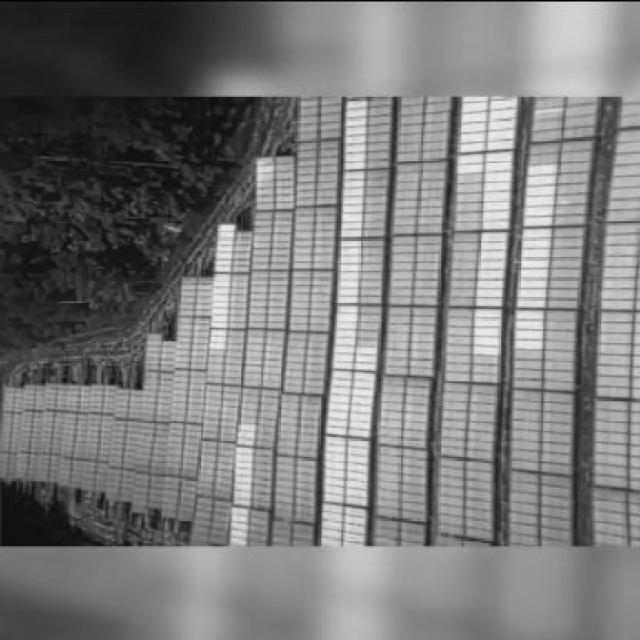diode: (489, 105, 516, 121), (528, 163, 558, 175), (462, 112, 487, 125), (460, 121, 485, 134), (459, 142, 483, 155), (479, 236, 507, 247), (514, 312, 544, 322), (456, 164, 481, 176), (492, 98, 516, 110), (516, 332, 544, 342), (520, 258, 548, 268), (523, 249, 548, 260), (524, 228, 551, 238), (458, 133, 482, 144), (458, 152, 482, 163), (526, 198, 552, 208), (515, 323, 543, 332), (523, 241, 551, 250), (459, 103, 487, 112), (483, 180, 511, 189), (518, 291, 545, 300), (521, 270, 548, 279), (528, 187, 555, 196), (476, 256, 506, 264), (476, 246, 506, 254), (520, 280, 546, 289), (473, 341, 499, 350), (488, 138, 514, 147), (480, 212, 509, 220), (483, 200, 512, 208), (475, 314, 500, 323), (476, 298, 501, 307), (476, 270, 501, 279), (475, 262, 503, 270), (482, 190, 510, 198), (486, 160, 514, 168), (335, 258, 357, 268), (323, 522, 345, 532), (348, 454, 370, 464), (524, 210, 551, 218), (475, 324, 499, 333), (342, 120, 366, 129), (325, 454, 346, 464), (476, 290, 502, 298), (324, 497, 347, 506), (343, 100, 365, 109), (335, 267, 357, 276), (323, 487, 345, 496), (483, 171, 511, 178), (485, 151, 513, 158), (474, 333, 498, 341), (477, 280, 501, 288), (335, 292, 354, 302), (528, 178, 555, 185), (357, 353, 378, 362), (354, 381, 375, 390), (514, 342, 544, 348), (536, 106, 566, 112), (350, 472, 368, 482), (352, 496, 370, 506), (492, 122, 514, 130), (343, 137, 365, 145), (322, 512, 344, 520), (355, 389, 377, 397), (335, 306, 357, 314), (346, 180, 365, 189), (212, 293, 231, 302), (345, 111, 364, 120), (326, 421, 345, 430), (329, 412, 348, 421), (356, 371, 375, 380), (352, 439, 371, 448), (515, 302, 543, 308), (462, 95, 486, 102), (479, 230, 507, 236), (479, 222, 507, 228), (348, 447, 369, 455), (524, 220, 551, 226), (488, 132, 515, 138), (337, 349, 355, 358), (335, 373, 353, 382), (325, 464, 343, 473), (358, 362, 376, 371), (351, 488, 367, 498), (474, 350, 500, 356), (342, 199, 364, 206), (335, 335, 357, 342), (326, 439, 348, 446), (348, 428, 370, 435), (350, 464, 372, 471), (323, 504, 345, 511), (336, 277, 355, 285), (326, 473, 345, 481), (348, 516, 367, 524), (348, 508, 369, 515), (215, 246, 233, 254), (212, 287, 230, 295), (345, 207, 363, 215), (340, 250, 358, 258), (338, 358, 354, 367), (327, 429, 345, 437), (352, 419, 370, 427), (235, 479, 253, 487), (232, 526, 250, 534), (343, 131, 366, 137), (239, 440, 256, 448), (343, 222, 362, 229), (342, 164, 364, 170), (336, 286, 358, 292), (333, 382, 355, 388), (332, 391, 354, 397), (348, 482, 370, 488), (358, 346, 380, 352), (320, 540, 342, 546), (212, 302, 228, 310), (342, 94, 363, 100), (344, 146, 365, 152), (345, 154, 363, 161), (345, 189, 363, 196), (341, 241, 362, 247), (355, 399, 373, 406), (348, 535, 366, 542), (476, 310, 501, 315), (346, 172, 366, 178), (241, 425, 256, 433), (237, 510, 252, 518), (338, 316, 357, 322), (335, 342, 354, 348), (322, 532, 341, 538), (353, 404, 372, 410), (353, 412, 372, 418), (233, 521, 252, 527), (336, 324, 355, 330), (493, 94, 521, 98), (218, 239, 232, 247), (212, 331, 228, 338), (348, 525, 364, 532), (325, 482, 347, 487), (214, 254, 232, 260), (214, 261, 232, 267), (338, 328, 356, 334), (341, 232, 359, 238), (332, 407, 350, 413), (327, 448, 345, 454), (237, 474, 252, 481), (239, 434, 256, 440), (235, 490, 252, 496), (236, 502, 253, 508), (257, 167, 274, 173), (213, 310, 229, 316), (333, 400, 349, 406), (239, 450, 255, 456), (238, 457, 254, 463), (219, 223, 235, 229), (214, 280, 229, 286), (238, 496, 253, 502), (334, 370, 351, 375), (212, 342, 225, 348), (238, 464, 251, 470), (218, 232, 236, 236), (213, 323, 225, 329), (342, 215, 360, 219), (233, 537, 250, 541), (211, 317, 227, 321), (258, 174, 274, 178), (215, 275, 230, 279), (217, 268, 231, 272), (214, 338, 228, 342), (233, 542, 247, 544)
hotspot: (258, 160, 267, 165)
